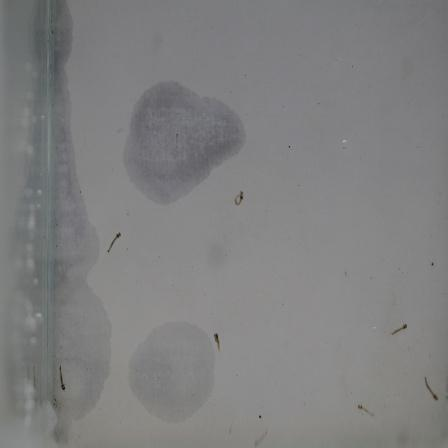Jentik-Nyamuk: (387, 319, 415, 343), (422, 371, 440, 405), (104, 228, 125, 257), (54, 359, 70, 397), (354, 399, 378, 423), (209, 326, 225, 357), (232, 183, 249, 210)
